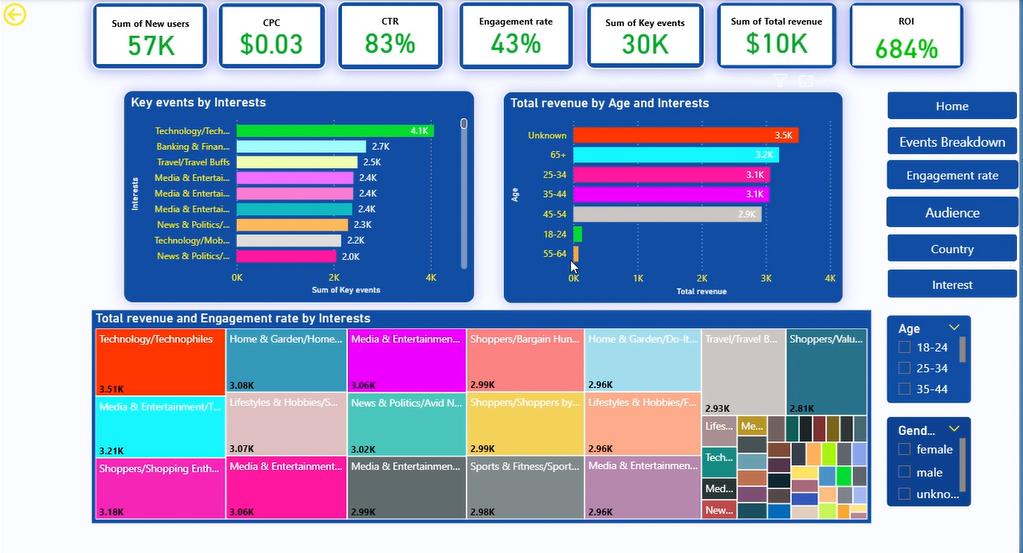

What the dashboard file says about the page in this screenshot:
{"tool":"powerbi","page":{"name":"Interest Dashboard","canvas":[1337,730],"ordinal":5},"visuals":[{"type":"actionButton","box":[1162.9,166,174.3,39.8],"z":0},{"type":"actionButton","box":[1163,210,174.3,39.8],"z":1000},{"type":"actionButton","box":[1163,259,174,40],"z":2000},{"type":"actionButton","box":[1163,307,174,40],"z":3000},{"type":"slicer","fields":{"Values":["Table 7 (Demographic details Age).Age"]},"box":[1162.9,414.6,112.1,117],"z":4000},{"type":"slicer","fields":{"Values":["Table 9 (Demographic details Gender).Gender"]},"box":[1162.9,547.8,112.1,119.5],"z":5000},{"type":"cardVisual","fields":{"Data":["Sum(Table 1 (User acquisition).New users)"]},"box":[121,4,153,89],"z":6000},{"type":"cardVisual","fields":{"Data":["Table 1 (User acquisition).CPC"]},"box":[286,4,142,89],"z":7000},{"type":"cardVisual","fields":{"Data":["Table 1 (User acquisition).CTR"]},"box":[443,3,140,91],"z":8000},{"type":"cardVisual","fields":{"Data":["Avg(Table 1 (User acquisition).Engagement rate)"]},"box":[602,2,152,91],"z":9000},{"type":"cardVisual","fields":{"Data":["Sum(Table 1 (User acquisition).Key events)"]},"box":[769,4,156,88],"z":10000},{"type":"cardVisual","fields":{"Data":["Sum(Table 1 (User acquisition).Total revenue)"]},"box":[941,4,158,88],"z":11000},{"type":"cardVisual","fields":{"Data":["Table 1 (User acquisition).ROI"]},"box":[1114,4,151,88],"z":12000},{"type":"actionButton","title":"Home","box":[1163,120,174,40],"z":13000},{"type":"actionButton","box":[0,0,100,40],"z":14000},{"type":"actionButton","box":[1162.9,354,174.3,41.1],"z":15000},{"type":"barChart","title":"Key events by Interests","fields":{"Category":["Table 8 (Demographic details Interests).Interests"],"Y":["Sum(Table 8 (Demographic details Interests).Key events)"]},"box":[162.7,119.9,461.1,278.9],"z":16000},{"type":"treemap","fields":{"Group":["Table 8 (Demographic details Interests).Interests"],"Values":["Sum(Table 8 (Demographic details Interests).Total revenue)"]},"box":[120.7,408.4,1022.2,279.8],"z":17000},{"type":"barChart","fields":{"Category":["Table 7 (Demographic details Age).Age"],"Y":["Sum(Table 8 (Demographic details Interests).Total revenue)"],"Series":["Table 8 (Demographic details Interests).Interests"]},"box":[660.5,121.1,446.5,278.9],"z":18000}]}

Visuals, with their boxes in screenshot pixels (x1, y1, x2, y2), scaled from the page's 1337x730 canvas onto the 1023x553 screenshot:
actionButton: l=890, t=126, r=1022, b=156
actionButton: l=890, t=159, r=1022, b=189
actionButton: l=890, t=196, r=1022, b=227
actionButton: l=890, t=233, r=1022, b=263
slicer - Table 7 (Demographic details Age).Age: l=890, t=314, r=976, b=403
slicer - Table 9 (Demographic details Gender).Gender: l=890, t=415, r=976, b=506
cardVisual - Sum(Table 1 (User acquisition).New users): l=93, t=3, r=210, b=70
cardVisual - Table 1 (User acquisition).CPC: l=219, t=3, r=327, b=70
cardVisual - Table 1 (User acquisition).CTR: l=339, t=2, r=446, b=71
cardVisual - Avg(Table 1 (User acquisition).Engagement rate): l=461, t=2, r=577, b=70
cardVisual - Sum(Table 1 (User acquisition).Key events): l=588, t=3, r=708, b=70
cardVisual - Sum(Table 1 (User acquisition).Total revenue): l=720, t=3, r=841, b=70
cardVisual - Table 1 (User acquisition).ROI: l=852, t=3, r=968, b=70
"Home" actionButton: l=890, t=91, r=1022, b=121
actionButton: l=0, t=0, r=77, b=30
actionButton: l=890, t=268, r=1022, b=299
"Key events by Interests" barChart: l=124, t=91, r=477, b=302
treemap - Table 8 (Demographic details Interests).Interests x Sum(Table 8 (Demographic details Interests).Total revenue): l=92, t=309, r=874, b=521
barChart - Table 7 (Demographic details Age).Age x Sum(Table 8 (Demographic details Interests).Total revenue): l=505, t=92, r=847, b=303
